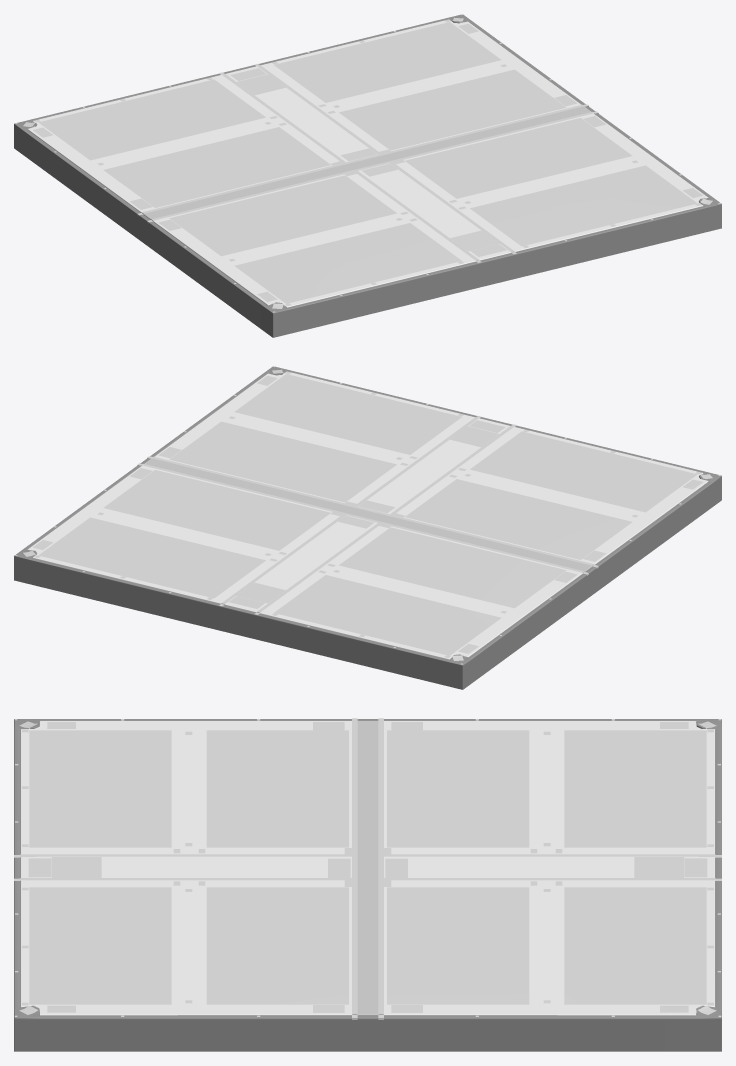
Rendered from 8x8Floor.fbx.
3 views of the same model, one above another, from view 1: azimuth 30°, elevation 25°; view 2: azimuth 150°, elevation 25°; view 3: azimuth 270°, elevation 25° (orthographic). The views are drawn at different scales.
Visible parts, largest first — view 1: Cube.049, StylizedHardSurface_Decals_062.005_projected, StylizedHardSurface_Decals_062.004_projected, StylizedHardSurface_Decals_062.006_projected, StylizedHardSurface_Decals_062.007_projected, StylizedHardSurface_Decals_062.008_projected, StylizedHardSurface_Decals_062.009_projected, StylizedHardSurface_Panels_002.029, StylizedHardSurface_Panels_002.030, StylizedHardSurface_Decals_019.023_projected, StylizedHardSurface_Decals_032.017_projected, StylizedHardSurface_Decals_024.005_projected; view 2: Cube.049, StylizedHardSurface_Decals_062.005_projected, StylizedHardSurface_Decals_062.004_projected, StylizedHardSurface_Decals_062.006_projected, StylizedHardSurface_Decals_062.008_projected, StylizedHardSurface_Decals_062.009_projected, StylizedHardSurface_Decals_062.007_projected, StylizedHardSurface_Panels_002.029, StylizedHardSurface_Panels_002.030, StylizedHardSurface_Decals_019.023_projected, StylizedHardSurface_Decals_032.017_projected, StylizedHardSurface_Decals_024.005_projected; view 3: Cube.049, StylizedHardSurface_Decals_062.005_projected, StylizedHardSurface_Decals_062.006_projected, StylizedHardSurface_Decals_062.007_projected, StylizedHardSurface_Decals_062.004_projected, StylizedHardSurface_Decals_062.008_projected, StylizedHardSurface_Decals_062.009_projected, StylizedHardSurface_Panels_002.030, StylizedHardSurface_Panels_002.029, StylizedHardSurface_Decals_019.023_projected, StylizedHardSurface_Decals_032.017_projected, StylizedHardSurface_Decals_024.005_projected (+1 smaller).
Boxes of the visible parts, box(x1,y1,x2,y2) form: Cube.049: box(14, 14, 721, 337); StylizedHardSurface_Decals_062.005_projected: box(103, 69, 632, 256); StylizedHardSurface_Decals_062.004_projected: box(38, 22, 697, 303); StylizedHardSurface_Decals_062.006_projected: box(96, 36, 636, 288); StylizedHardSurface_Decals_062.007_projected: box(161, 84, 571, 241); StylizedHardSurface_Decals_062.008_projected: box(157, 51, 578, 275); StylizedHardSurface_Decals_062.009_projected: box(222, 98, 516, 227); StylizedHardSurface_Panels_002.029: box(137, 104, 598, 223); StylizedHardSurface_Panels_002.030: box(219, 63, 516, 262); StylizedHardSurface_Decals_019.023_projected: box(237, 74, 499, 251); StylizedHardSurface_Decals_032.017_projected: box(230, 68, 506, 256); StylizedHardSurface_Decals_024.005_projected: box(129, 95, 606, 230); Cube.049: box(14, 366, 721, 689); StylizedHardSurface_Decals_062.005_projected: box(103, 421, 632, 608); StylizedHardSurface_Decals_062.004_projected: box(38, 374, 697, 655); StylizedHardSurface_Decals_062.006_projected: box(99, 388, 636, 641); StylizedHardSurface_Decals_062.008_projected: box(157, 403, 578, 627); StylizedHardSurface_Decals_062.009_projected: box(222, 450, 513, 579); StylizedHardSurface_Decals_062.007_projected: box(164, 436, 571, 593); StylizedHardSurface_Panels_002.029: box(137, 456, 598, 575); StylizedHardSurface_Panels_002.030: box(219, 415, 516, 614); StylizedHardSurface_Decals_019.023_projected: box(236, 426, 498, 603); StylizedHardSurface_Decals_032.017_projected: box(229, 420, 505, 608); StylizedHardSurface_Decals_024.005_projected: box(129, 447, 606, 582); Cube.049: box(14, 719, 721, 1051); StylizedHardSurface_Decals_062.005_projected: box(206, 730, 529, 1004); StylizedHardSurface_Decals_062.006_projected: box(29, 769, 706, 965); StylizedHardSurface_Decals_062.007_projected: box(206, 769, 529, 965); StylizedHardSurface_Decals_062.004_projected: box(29, 730, 706, 1004); StylizedHardSurface_Decals_062.008_projected: box(29, 807, 706, 927); StylizedHardSurface_Decals_062.009_projected: box(206, 807, 529, 927); StylizedHardSurface_Panels_002.030: box(14, 854, 721, 880); StylizedHardSurface_Panels_002.029: box(352, 718, 383, 1019); StylizedHardSurface_Decals_019.023_projected: box(51, 857, 684, 877); StylizedHardSurface_Decals_032.017_projected: box(28, 858, 707, 877); StylizedHardSurface_Decals_024.005_projected: box(313, 722, 422, 1012).
Bounding box in the file's own units: 801 × 44.29 × 800.
